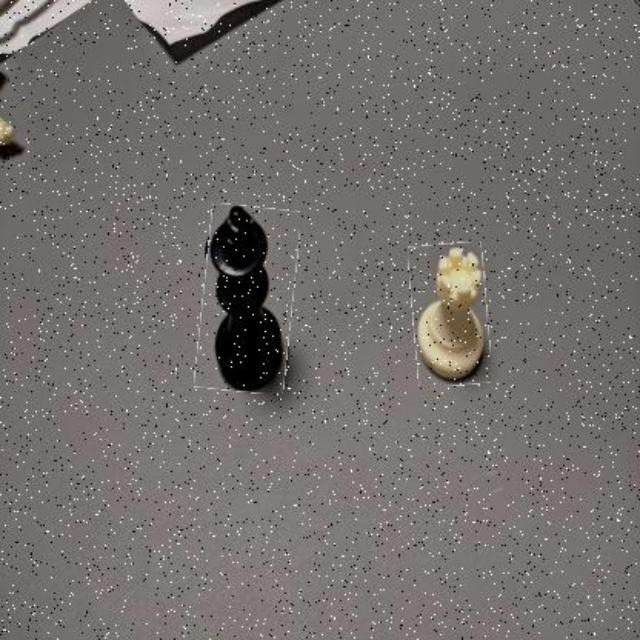black-king: (199, 205, 297, 394)
white-rook: (412, 243, 490, 387)
